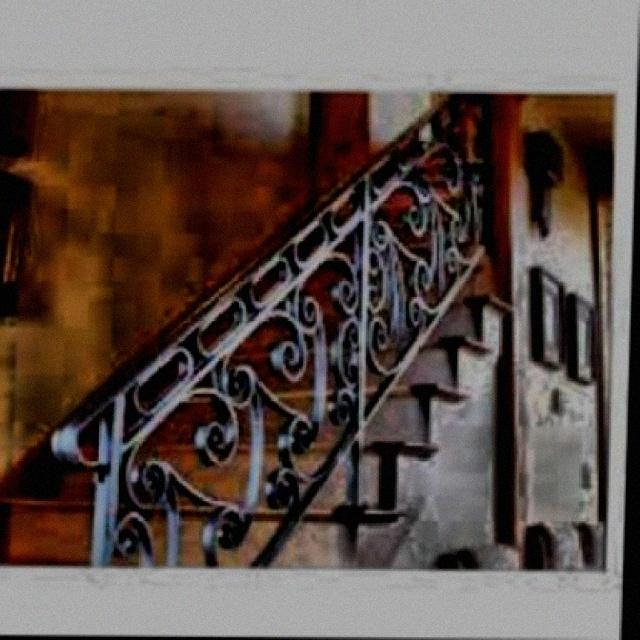stair: (1, 283, 518, 625)
